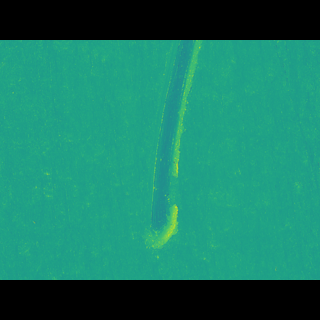Loch: (139, 69, 207, 230)
